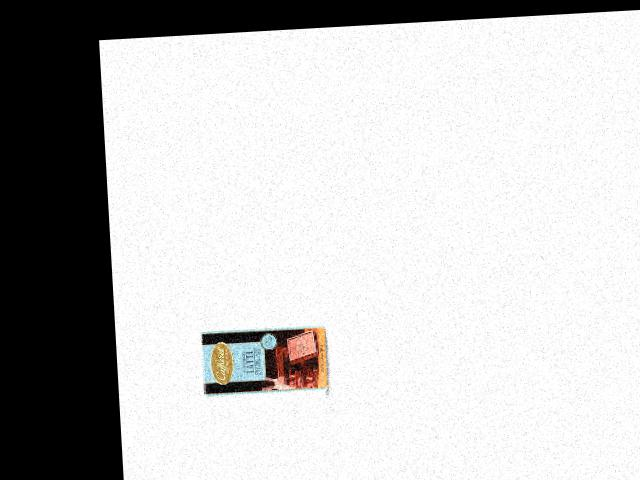chocolate: (199, 323, 330, 399)
